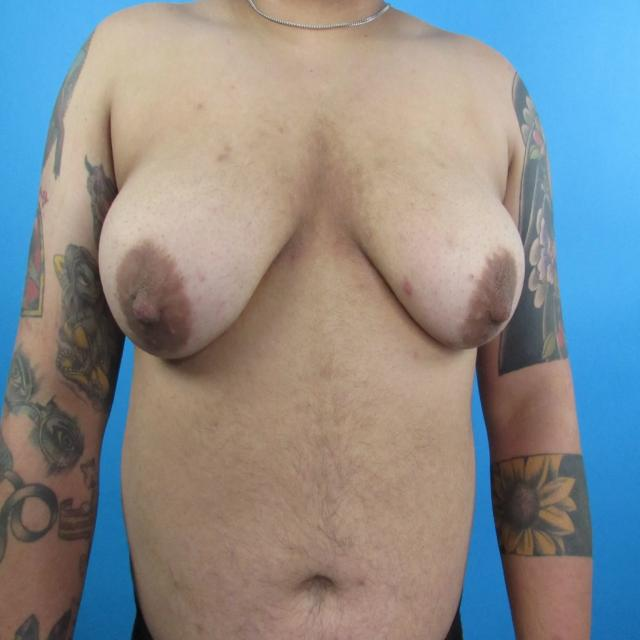Seno ileso: (91, 128, 316, 386), (329, 129, 532, 379)
